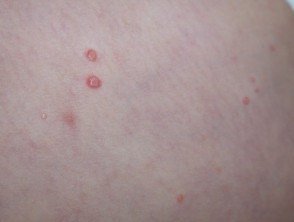Warts: (82, 44, 105, 69), (84, 72, 105, 90), (34, 109, 53, 124)
